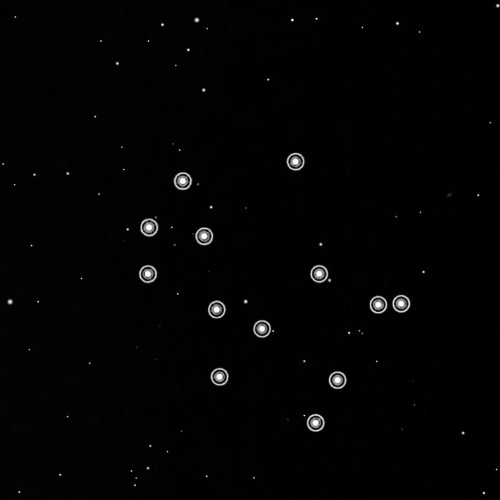gemini: (125, 151, 417, 436)
